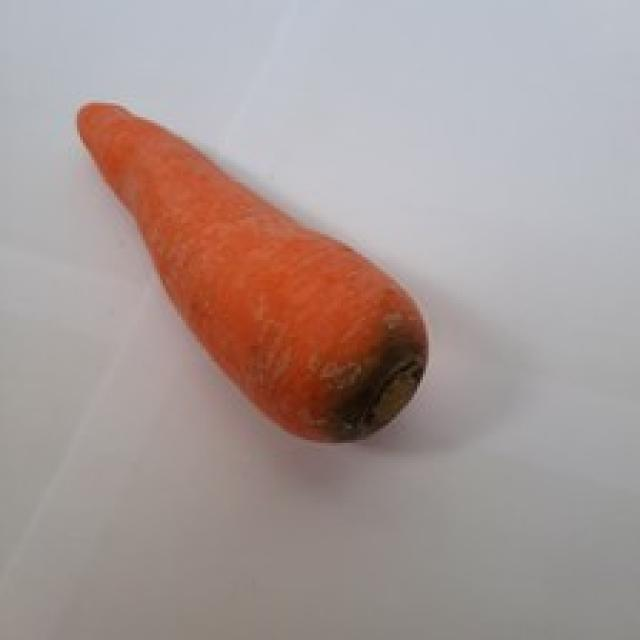Fresh_Carrot: (31, 66, 473, 463)
